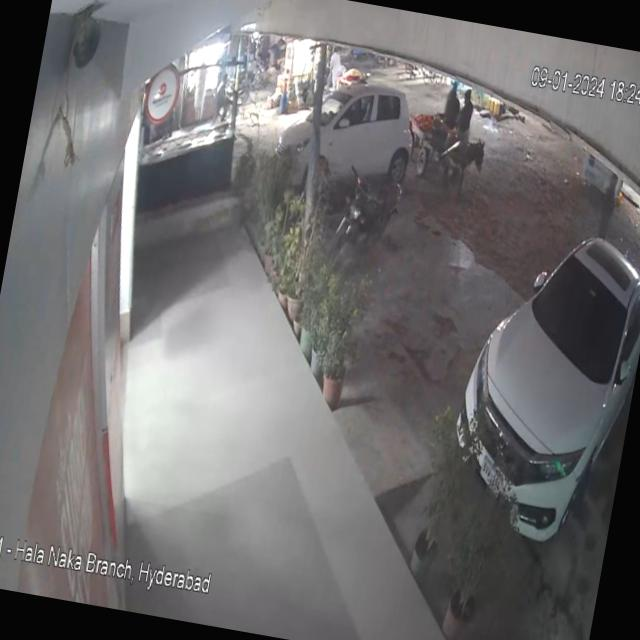Car: (435, 176, 640, 564), (252, 53, 428, 194)
Motorcycle: (330, 154, 408, 268)
